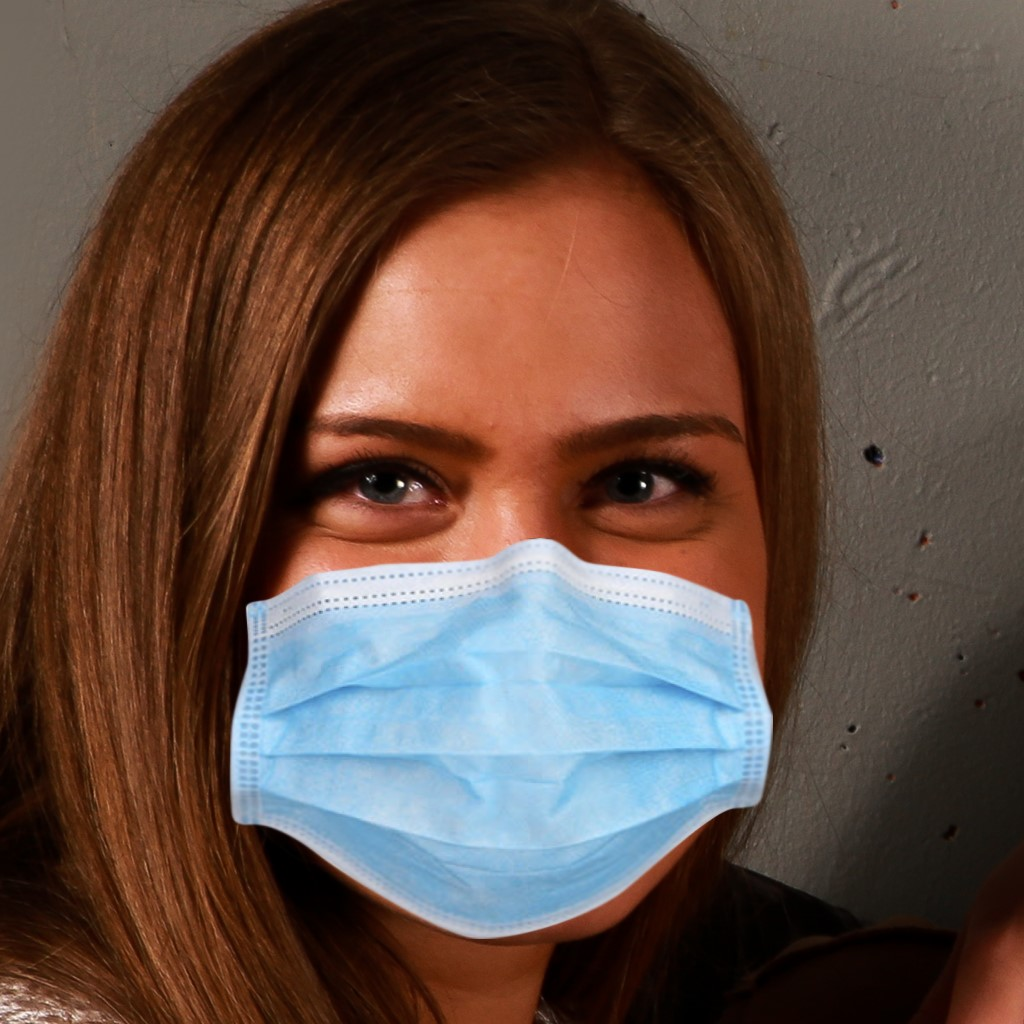con_mascara: (115, 34, 828, 979)
